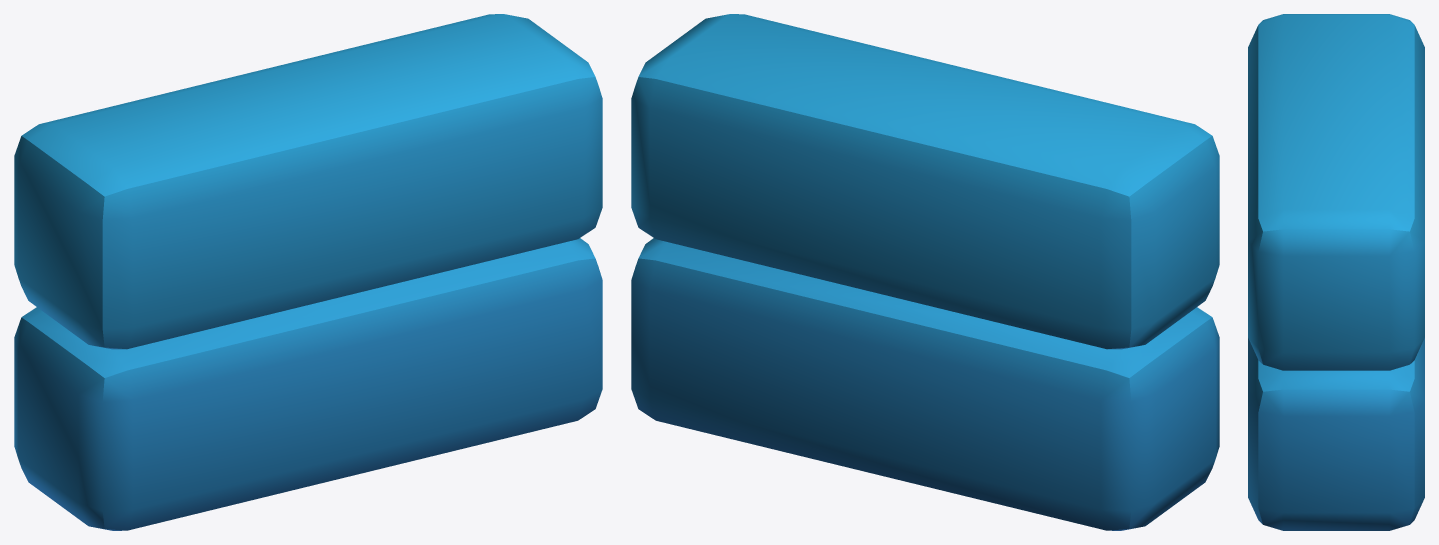
File: barrier_3x1x2_blue.glb
3 renders of one model, left to right at view 1: azimuth 30°, elevation 25°; view 2: azimuth 150°, elevation 25°; view 3: azimuth 270°, elevation 25°, orthographic. The views are drawn at different scales.
Visible parts, largest first — view 1: barrier_3x1x2_blue; view 2: barrier_3x1x2_blue; view 3: barrier_3x1x2_blue.
Boxes of the visible parts, x1,y1,x2,y2 form: barrier_3x1x2_blue: (14, 14, 602, 530); barrier_3x1x2_blue: (631, 14, 1219, 530); barrier_3x1x2_blue: (1248, 14, 1424, 530).
Bounding box in the file's own units: 3 × 2 × 1.
1 material, 1 textured.
